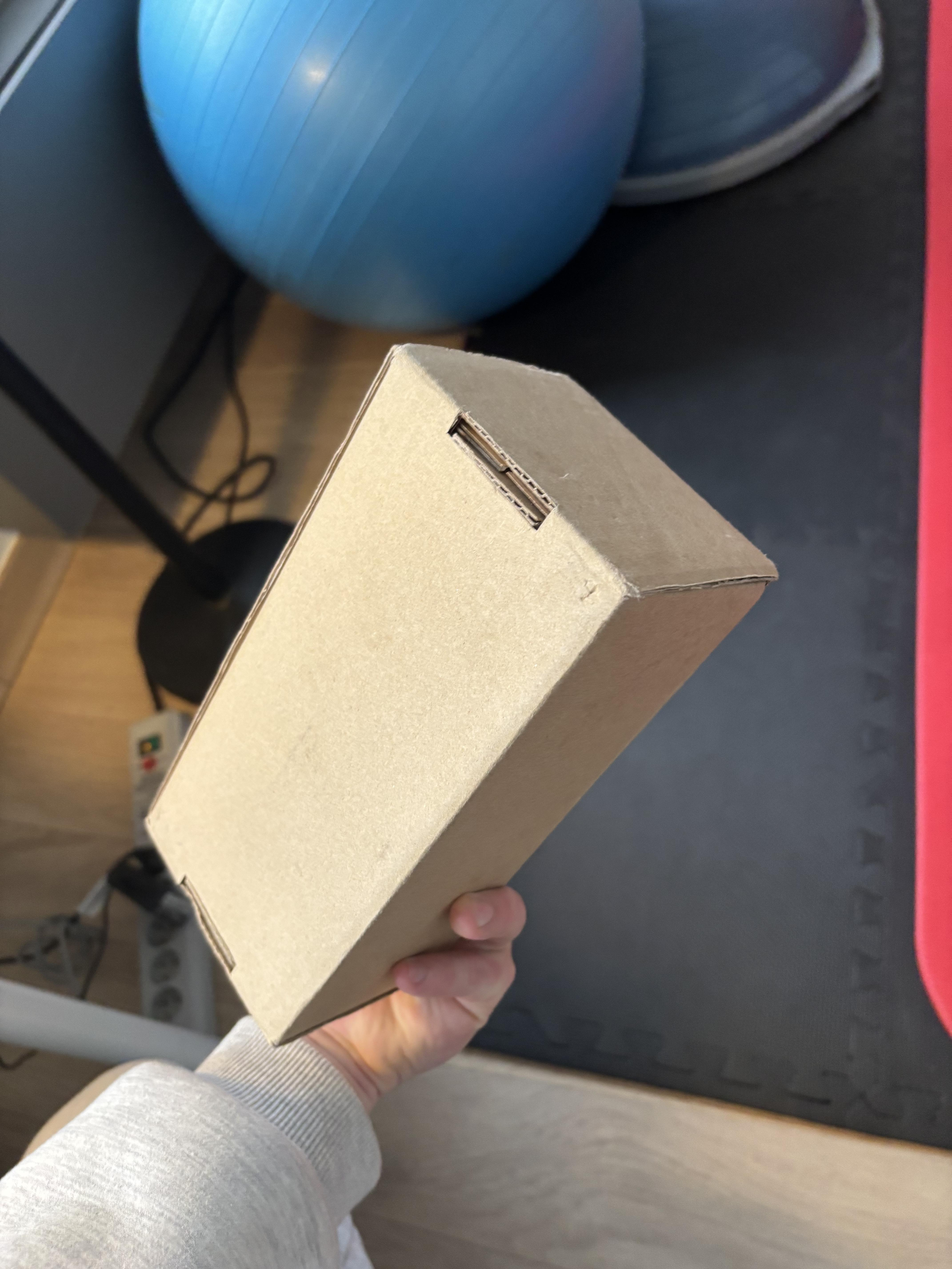Cardboard: (138, 342, 782, 1049)
